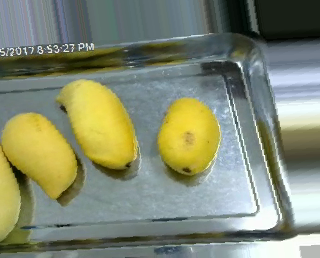Mango: (54, 79, 142, 171), (1, 110, 84, 201), (152, 92, 221, 174)
